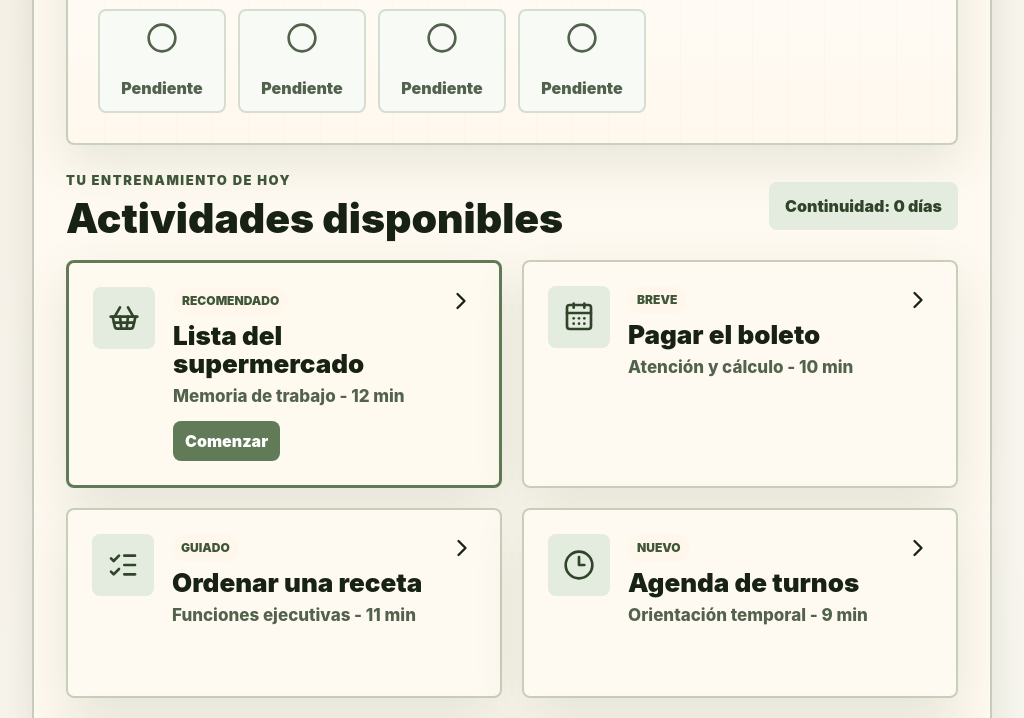
Test: MenteActiva critical flows › frontend does NOT receive correct_answer_snapshot from backend response payload
(page scrolled)
Click the button "Lista del supermercado": (284,374) [66,260,502,488]
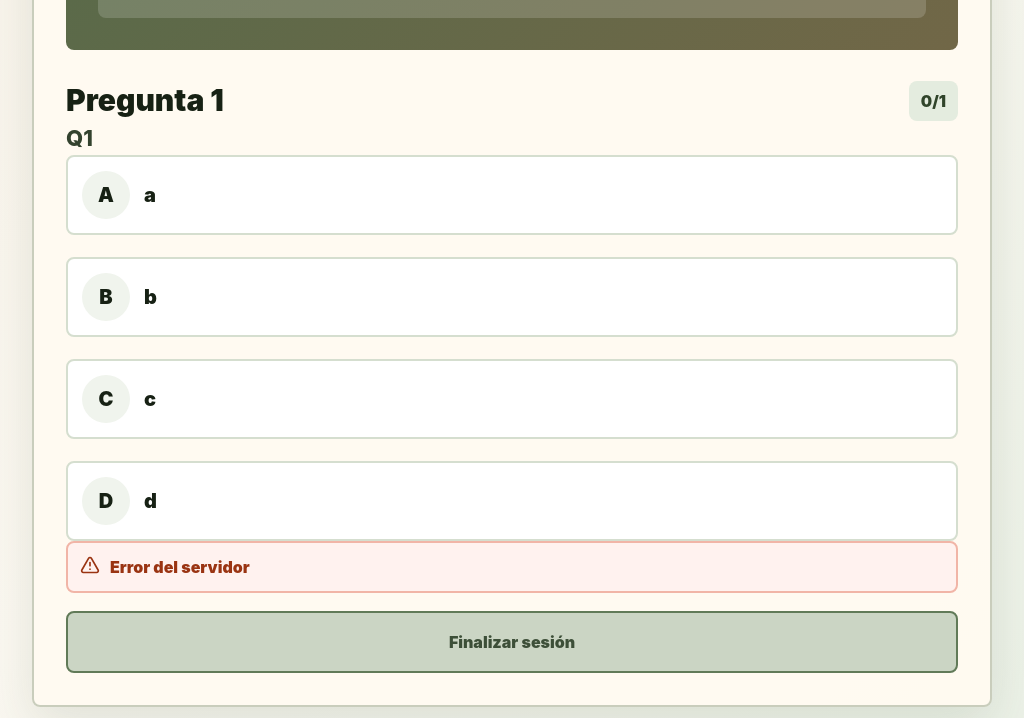
Check: the text "Q1" is shown, box [66,126,93,152]
